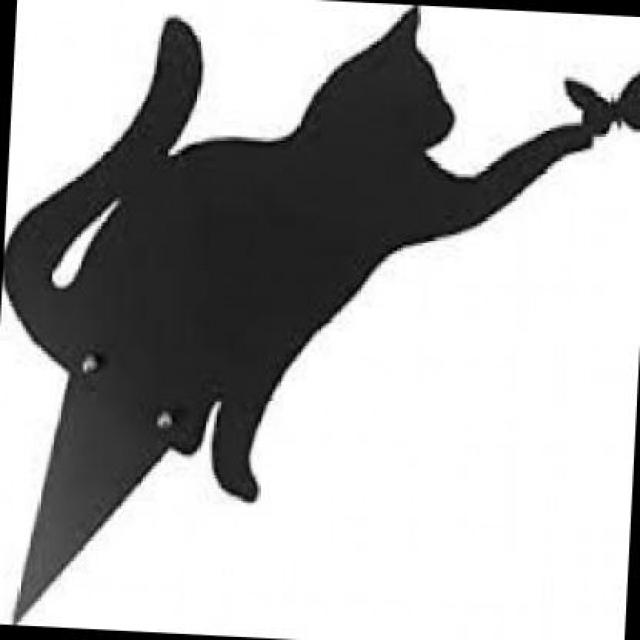animals: (0, 0, 600, 449)
